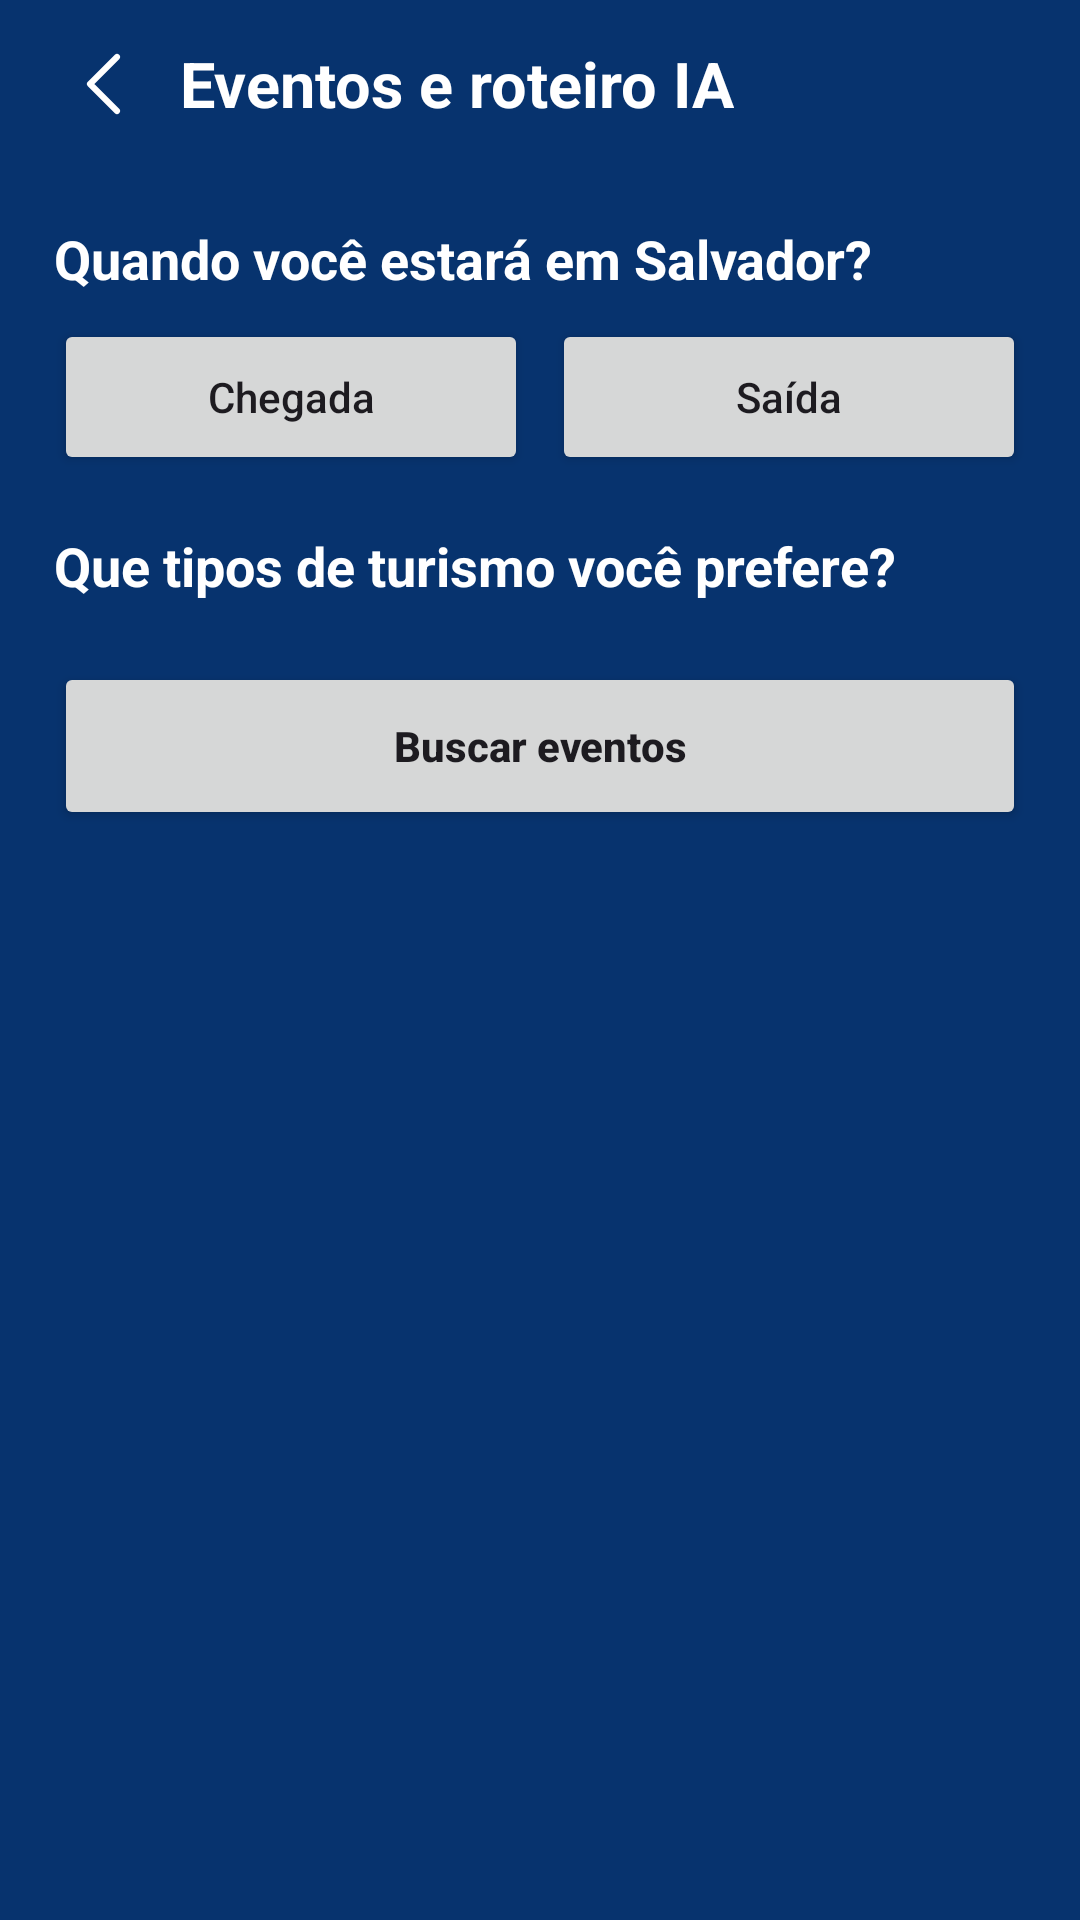

Icons on this 1080×1920 Android screen, each with its box as (x1, y1, x2, y2):
Voltar: (86, 53, 120, 115)
